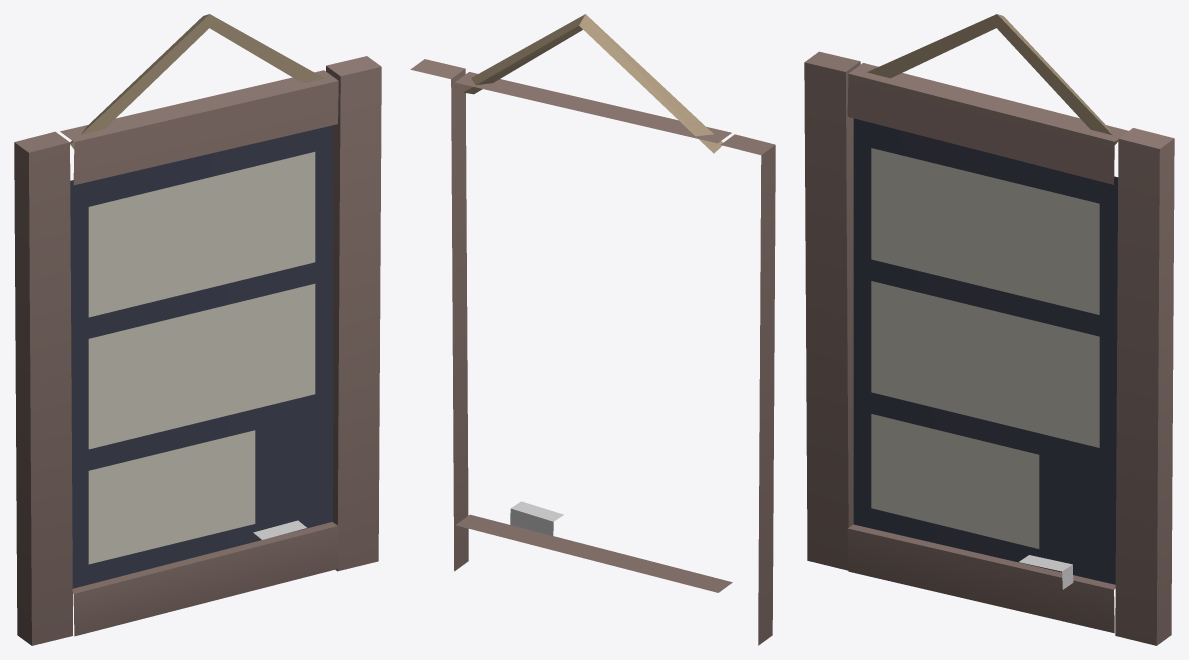
File: rd_rain_tally.glb
3 renders of one model, left to right at view 1: azimuth 30°, elevation 25°; view 2: azimuth 150°, elevation 25°; view 3: azimuth 330°, elevation 25°, orthographic.
Parts seen in each view (by area): view 1: rd_rain_tally_mesh; view 2: rd_rain_tally_mesh; view 3: rd_rain_tally_mesh.
Part boxes in pixels (bbox=[...]): rd_rain_tally_mesh: bbox=[14, 14, 381, 645]; rd_rain_tally_mesh: bbox=[410, 14, 775, 645]; rd_rain_tally_mesh: bbox=[804, 14, 1174, 645].
Bounding box in the file's own units: 0.2241 × 0.3542 × 0.0286.
